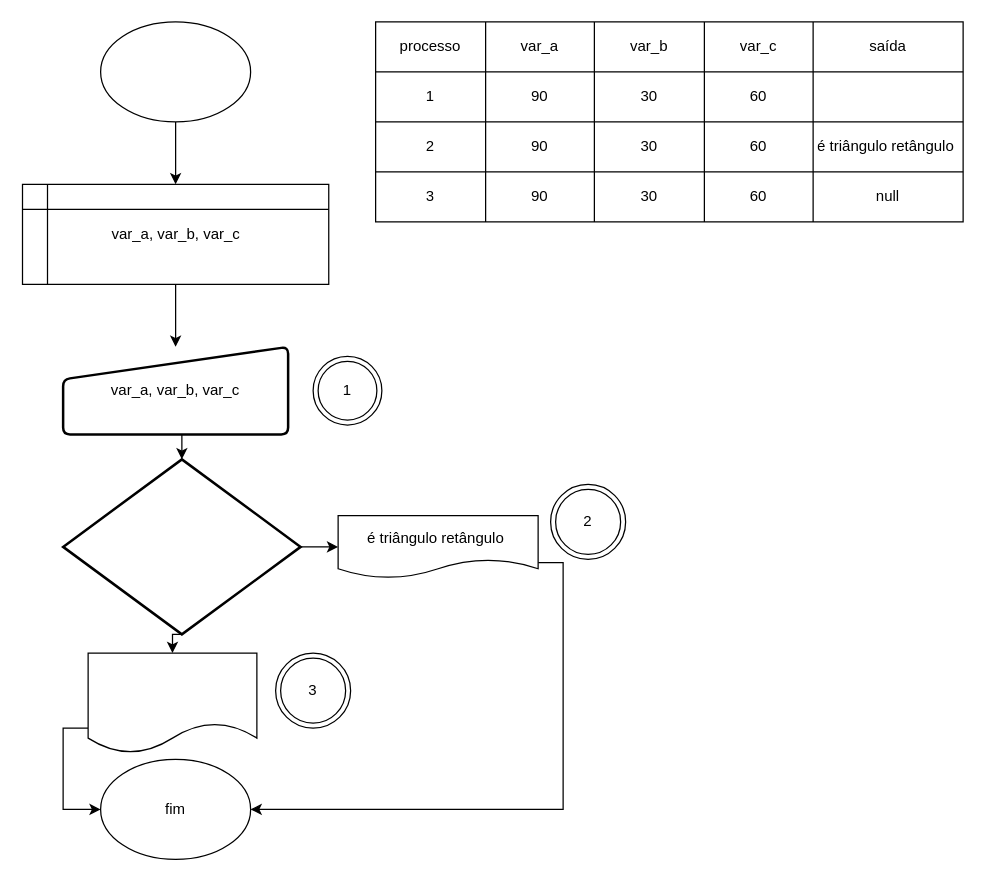
Some shapes in this 985 by 881 pixel diagram are drawn without their labels. The shapes that lost their labels are listed below. From the top down, each one's centre as x and y in pixels, then its label:
the point at 175,71: início
the point at 181,546: if (var_a ==90) || (var_b == 90) || (var_c == 90)
the point at 172,702: não é triângulo retângulo
